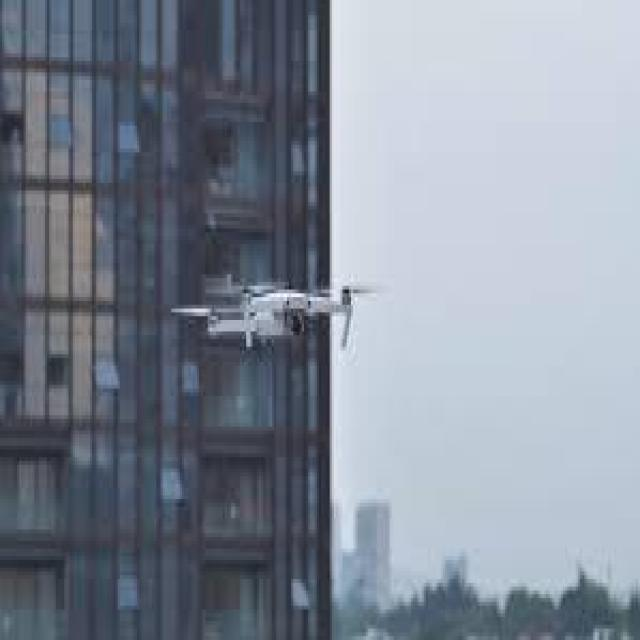drones: (174, 261, 384, 365)
